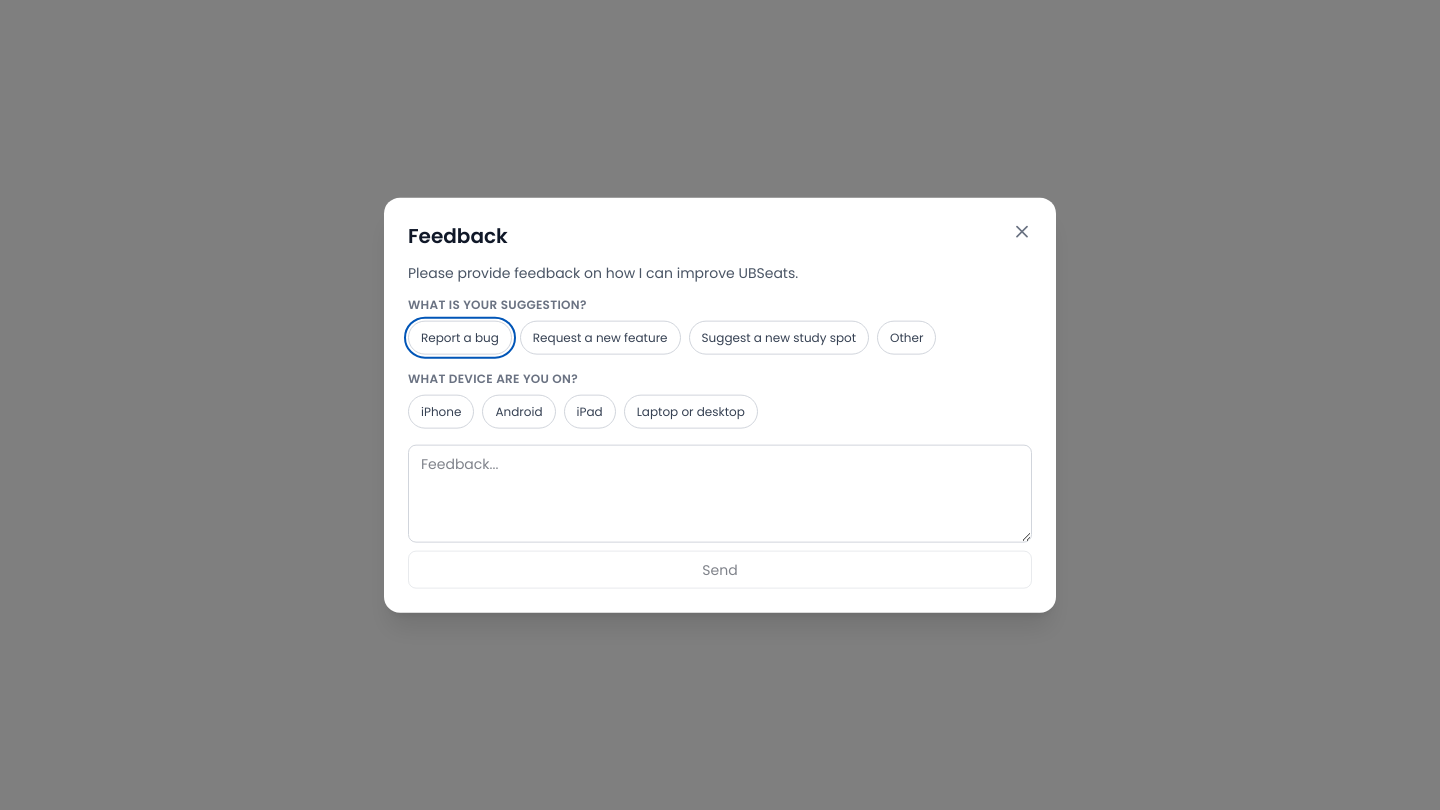
Scenario: FeedbackModal › sends the trimmed message, closes and thanks the user
This screenshot has width=1440, height=810.
Click the button "Report a bug".
click(460, 337)  # box [408,320,512,354]
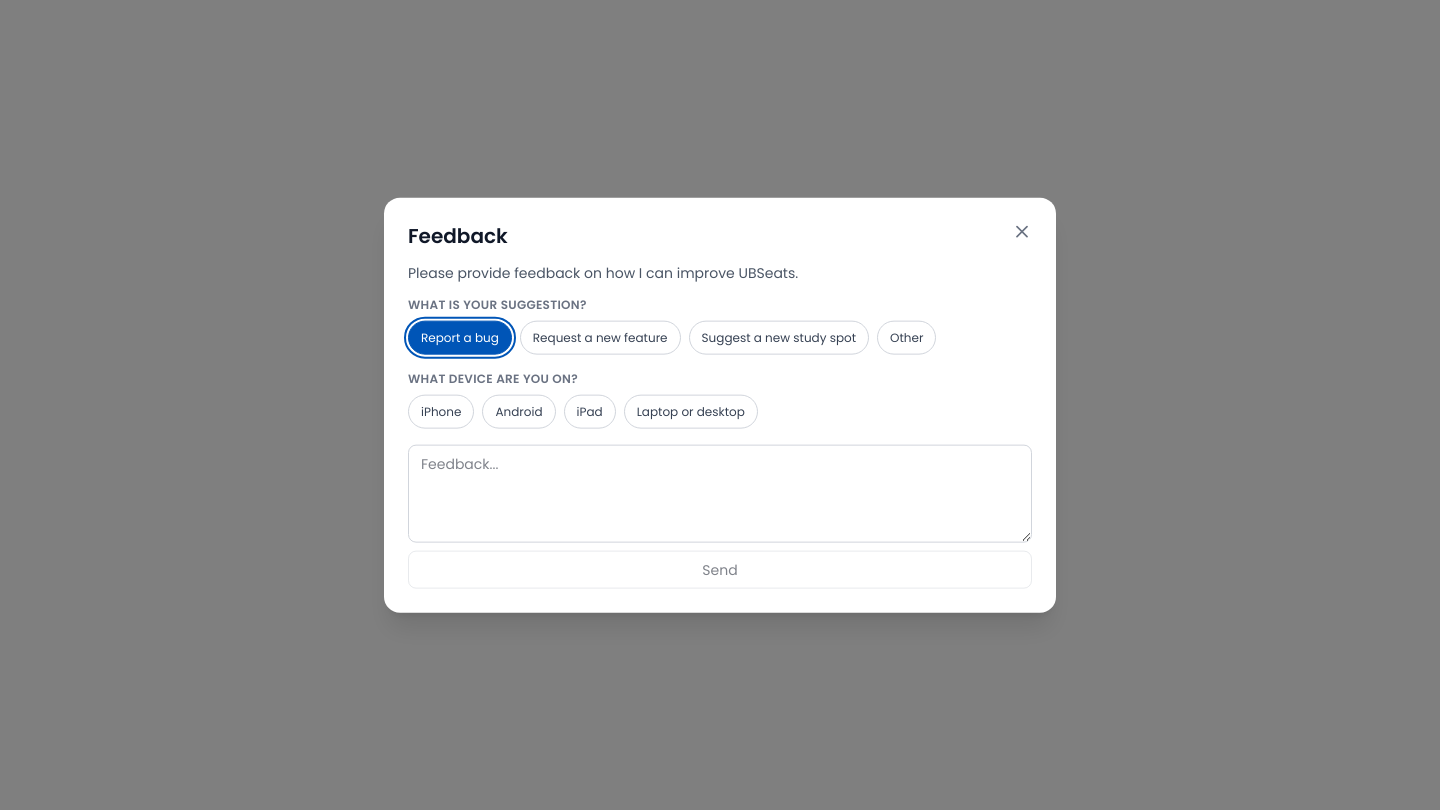
Click the button "Laptop or desktop".
click(691, 411)  # box [624,394,758,428]
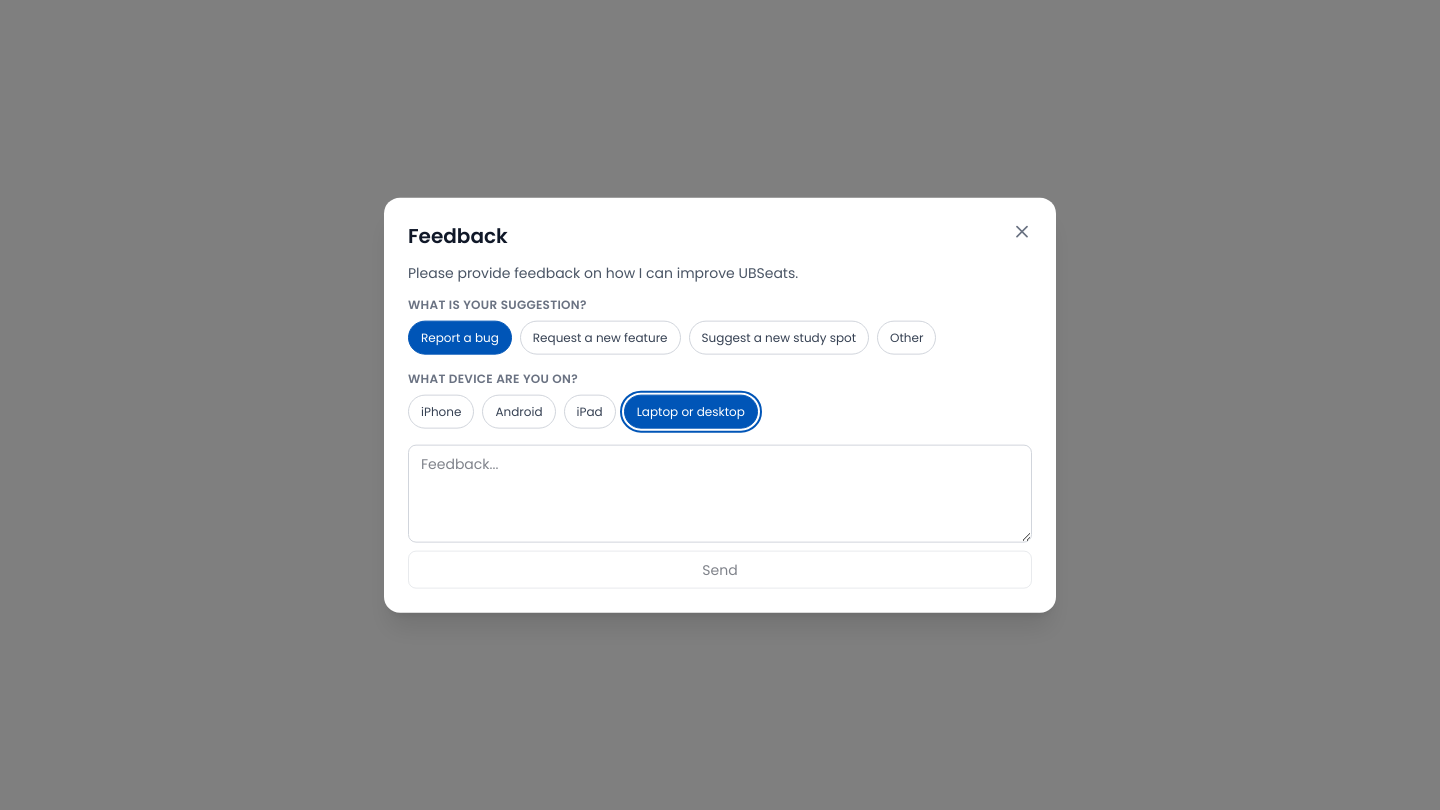
Type "  Map is slow  " into the text box named "Feedback message".
click(720, 493); type("  Map is slow  ")  # box [408,444,1032,542]
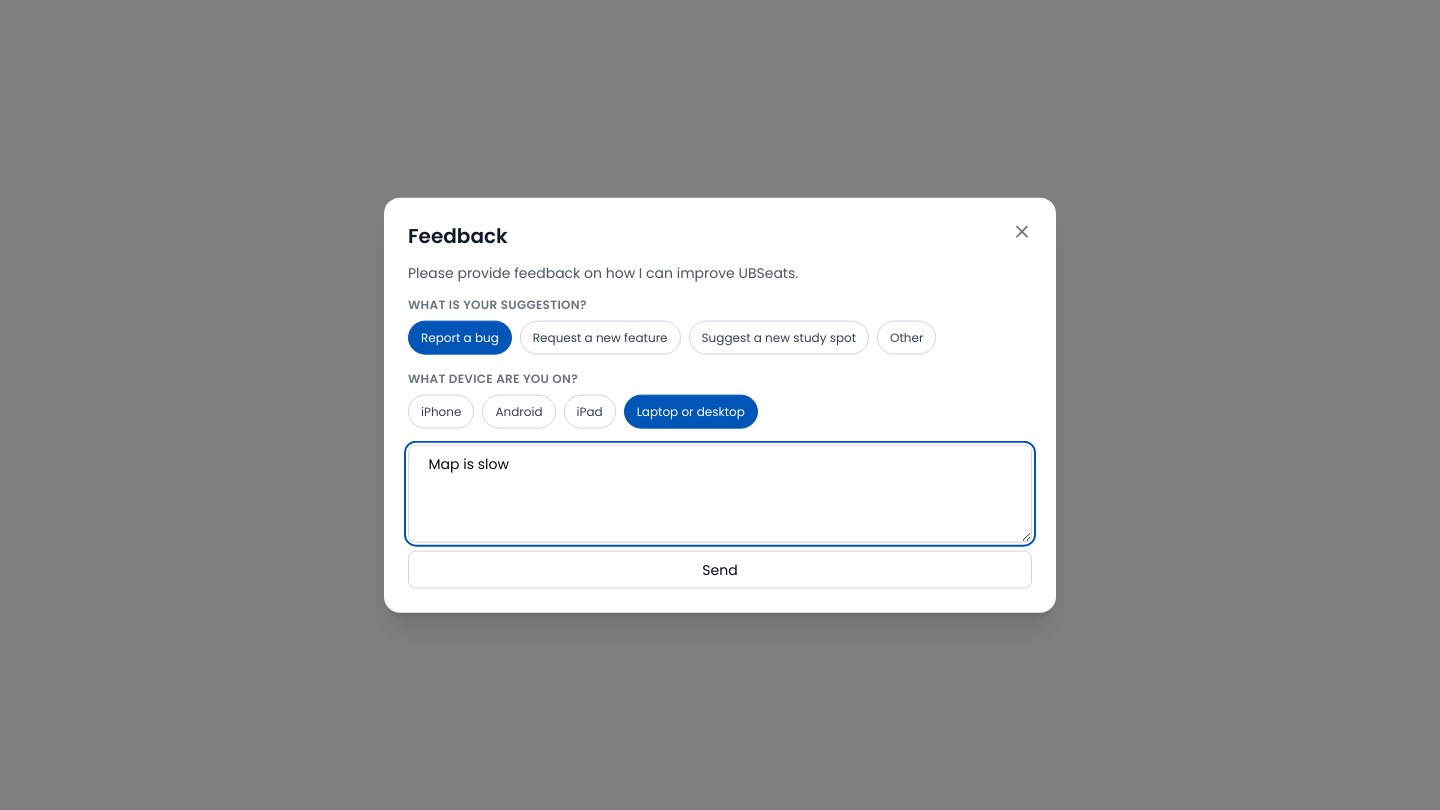
Click the button "Send".
click(720, 569)  # box [408,550,1032,588]
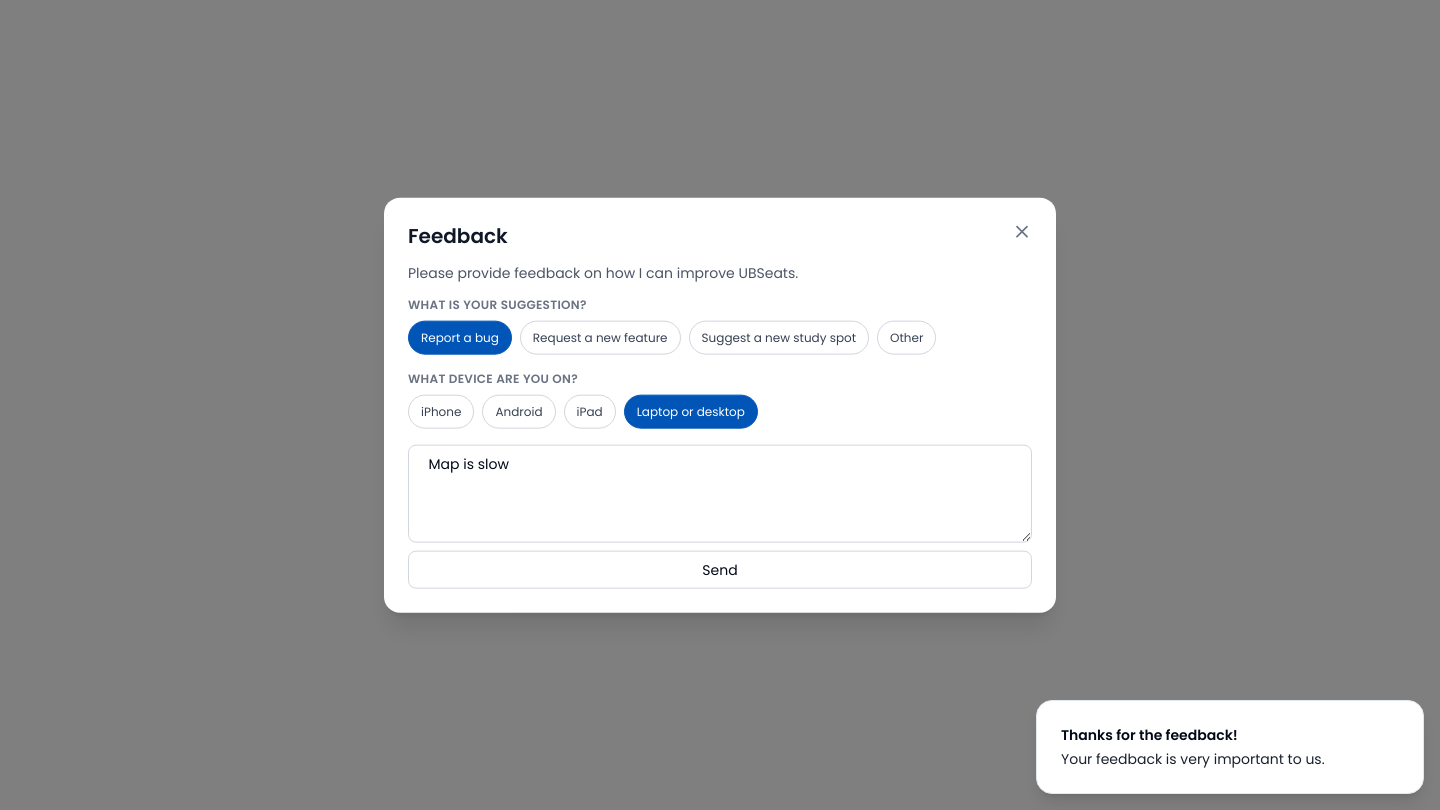
Expected: the text "Thanks for the feedback!" is shown, [1061,725,1238,745]
Expected: the text "Your feedback is very important to us." is shown, [1061,749,1325,769]
